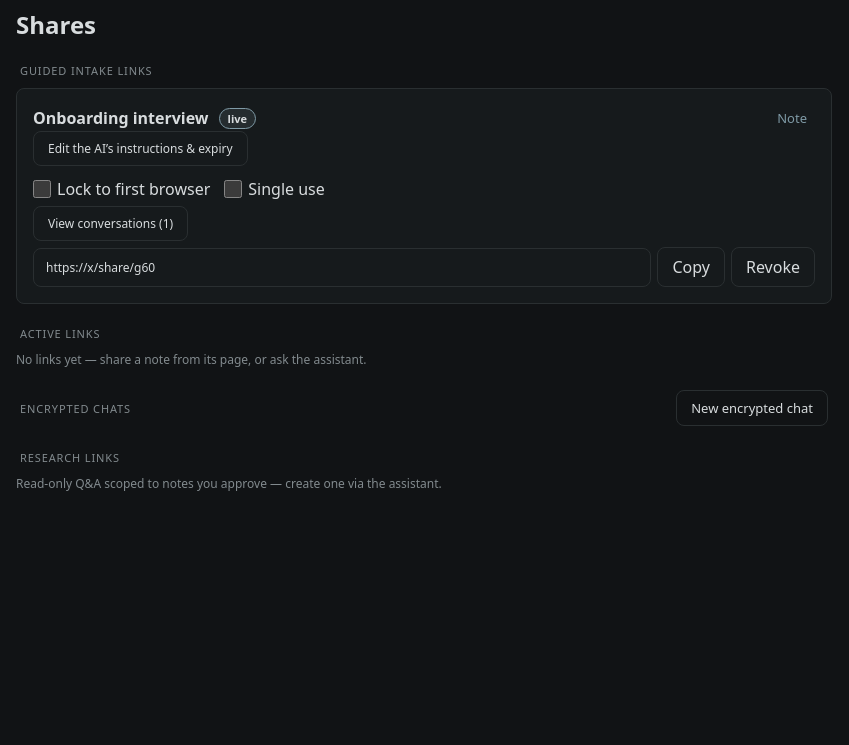
it: SharesPage — guided per-link sessions › deletes a session (guided delete) and refreshes the list
expect the text "Onboarding interview" is shown: met, box top-left (33, 107), bottom-right (209, 129)
Click the button "View conversations (1)" at {"x": 111, "y": 224}, box top-left (33, 206), bottom-right (188, 241)
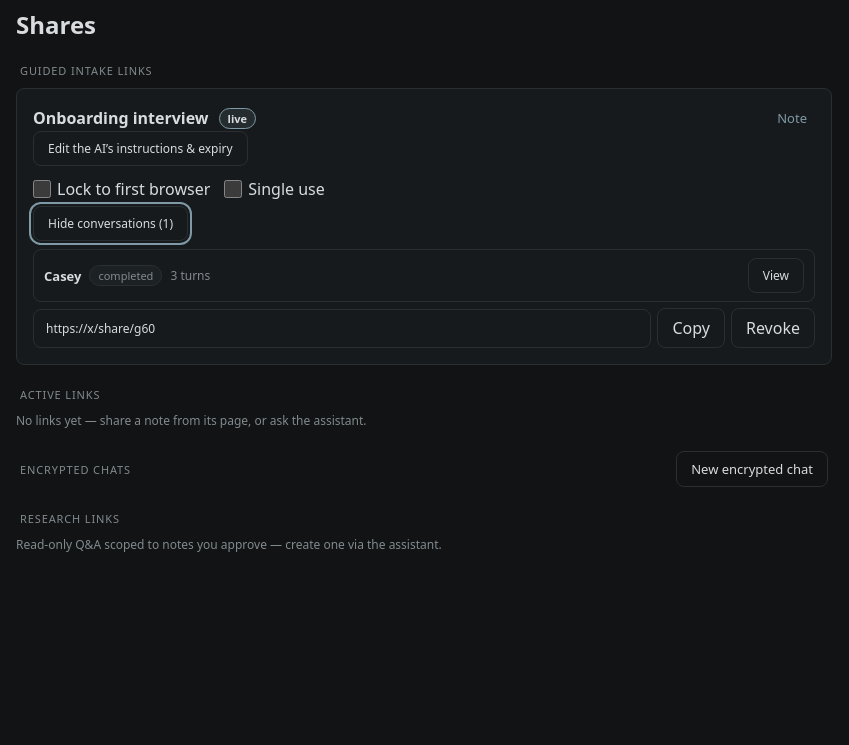
expect the text "Casey" is shown: met, box top-left (44, 266), bottom-right (81, 284)
Click the button "View" at {"x": 776, "y": 276}, box top-left (748, 258), bottom-right (804, 293)
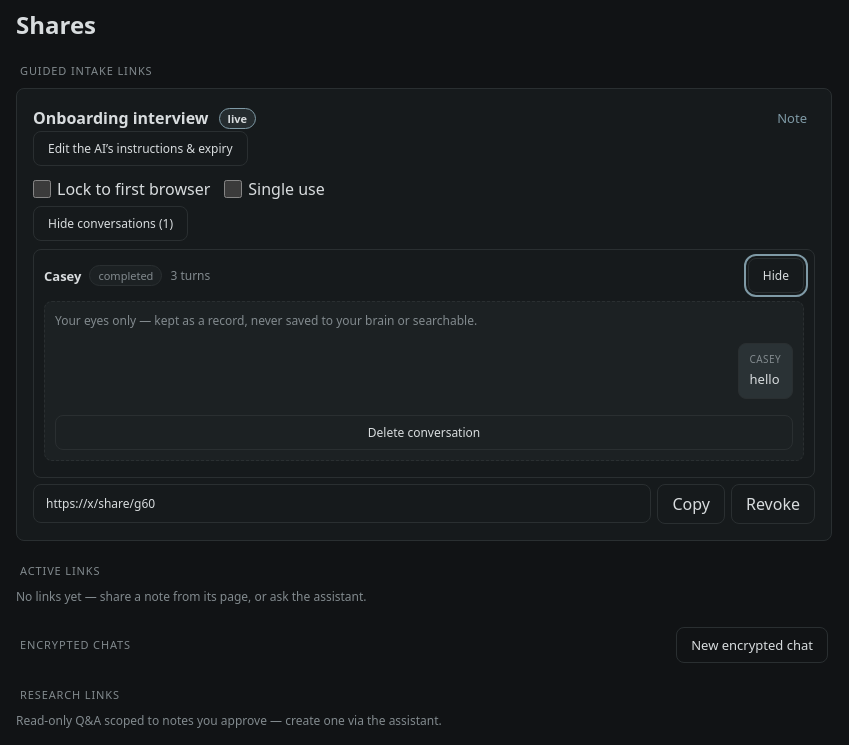
expect the text "hello" is shown: met, box top-left (750, 370), bottom-right (780, 388)
Click the button "Delete conversation" at {"x": 424, "y": 432}, box top-left (55, 414), bottom-right (793, 450)
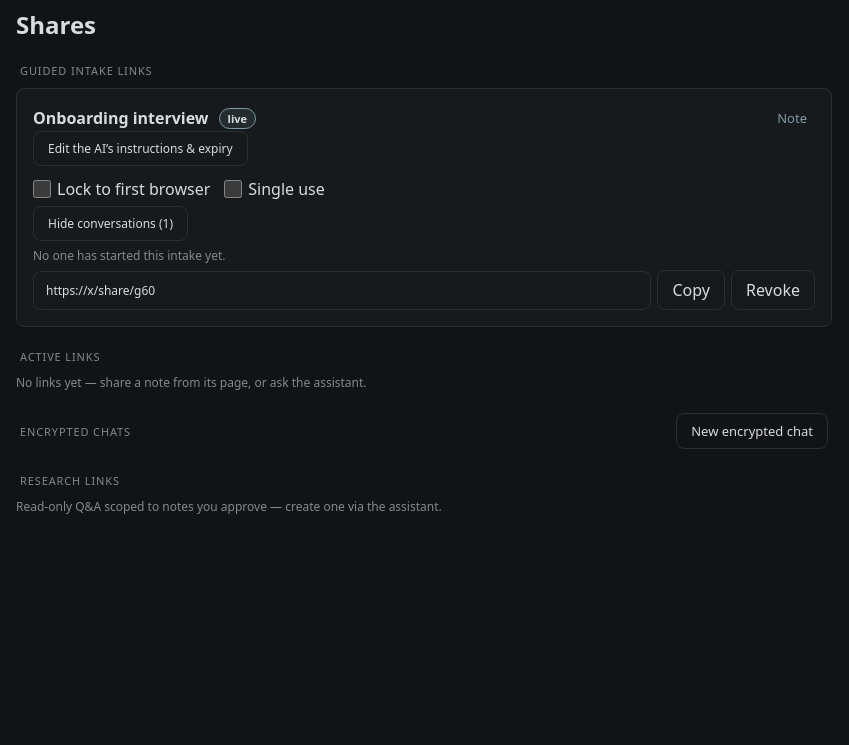
expect the text "No one has started this intake yet." is shown: met, box top-left (33, 247), bottom-right (226, 264)
